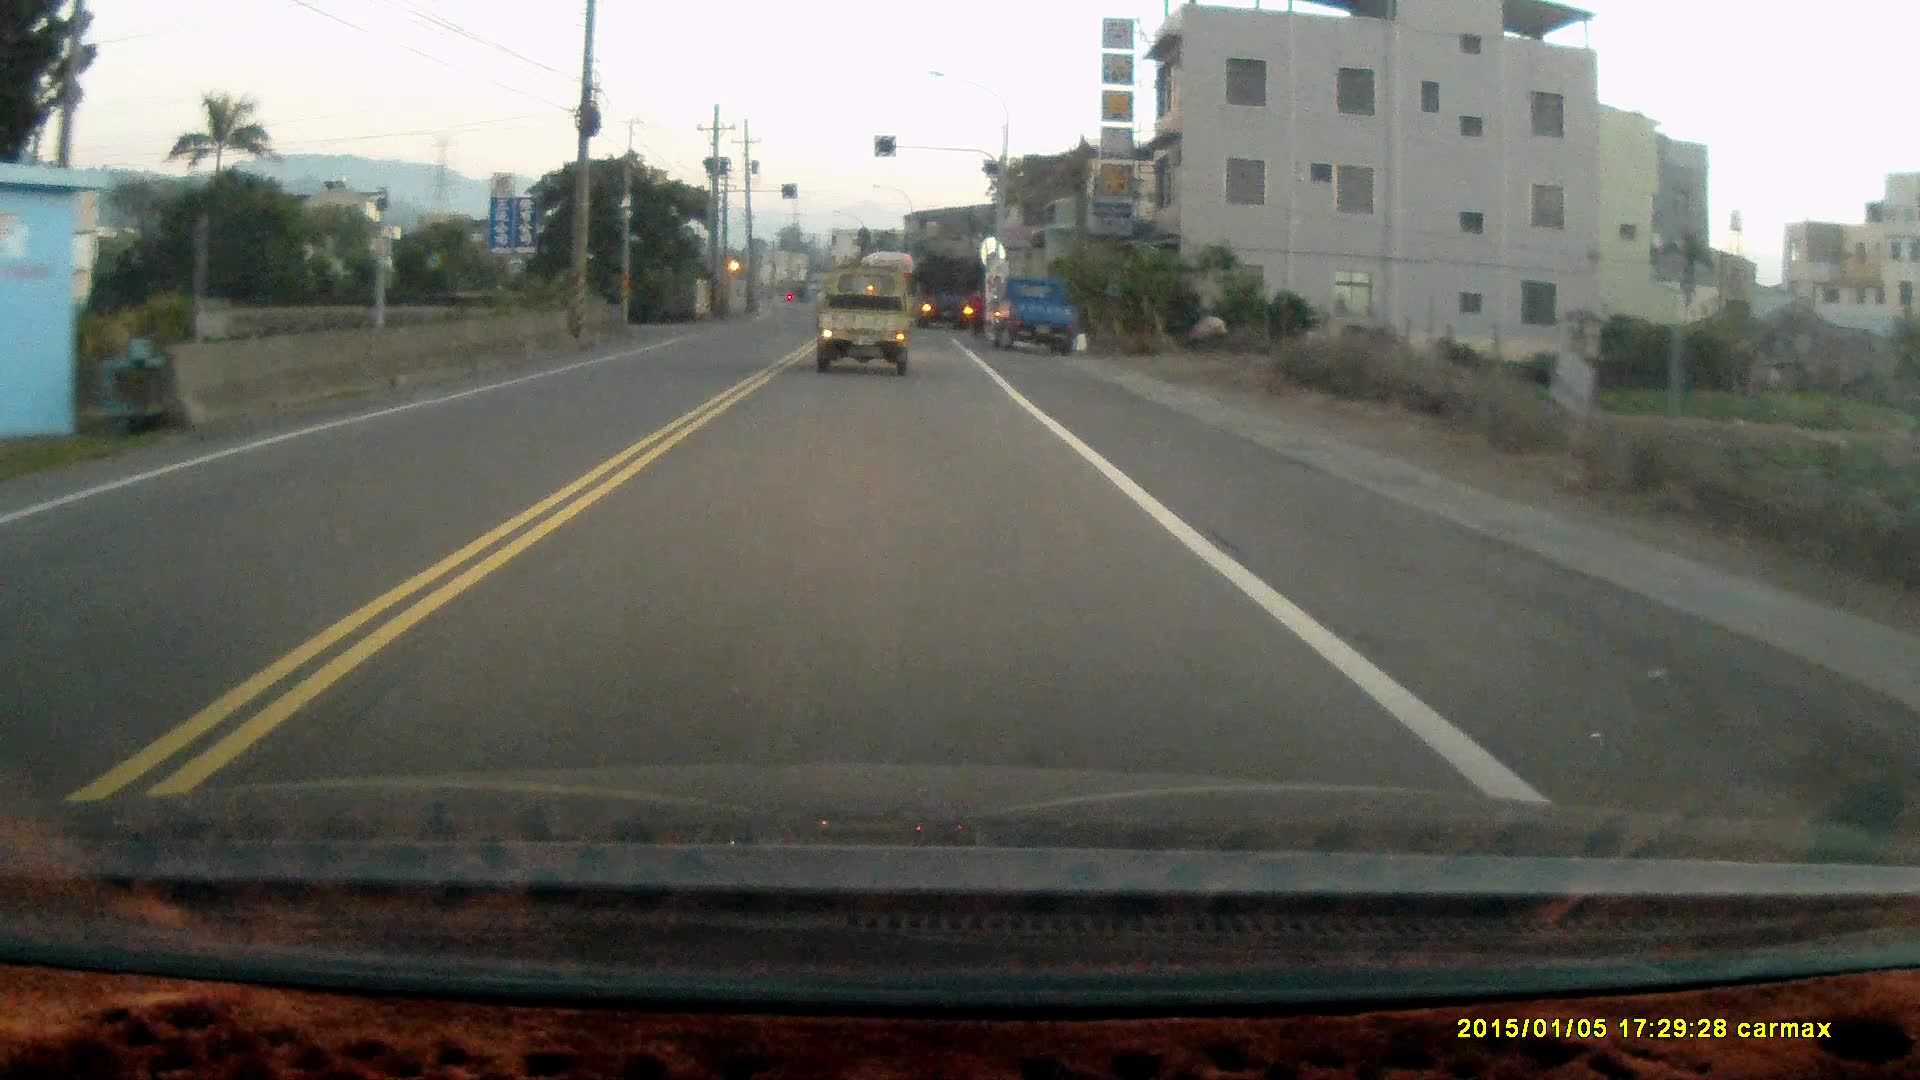vehicle: (812, 268, 916, 385), (986, 273, 1093, 355), (916, 255, 988, 332)
